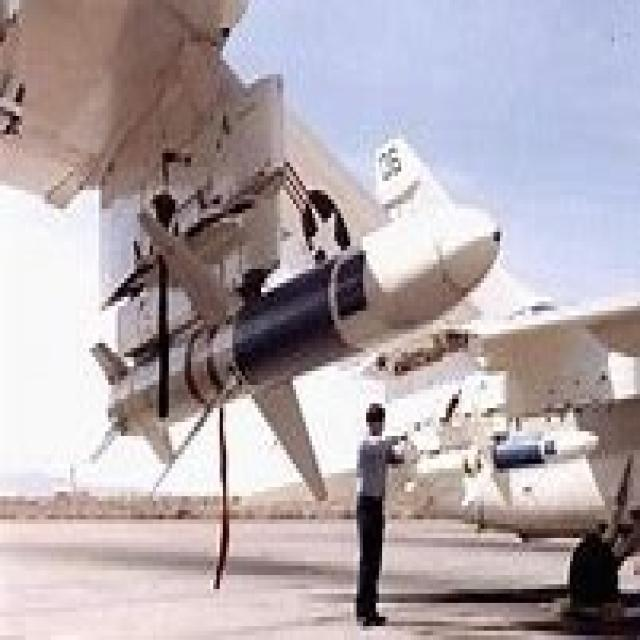missile: (80, 202, 502, 504)
